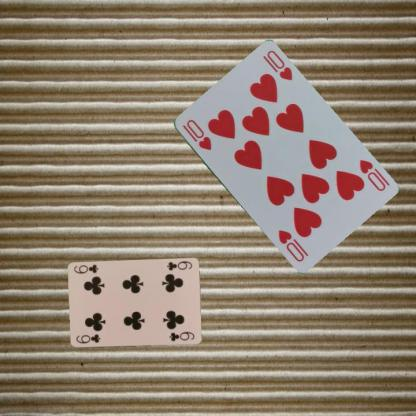10h: (179, 117, 213, 151), (356, 156, 386, 192)
6c: (164, 258, 193, 272), (73, 332, 101, 345)
